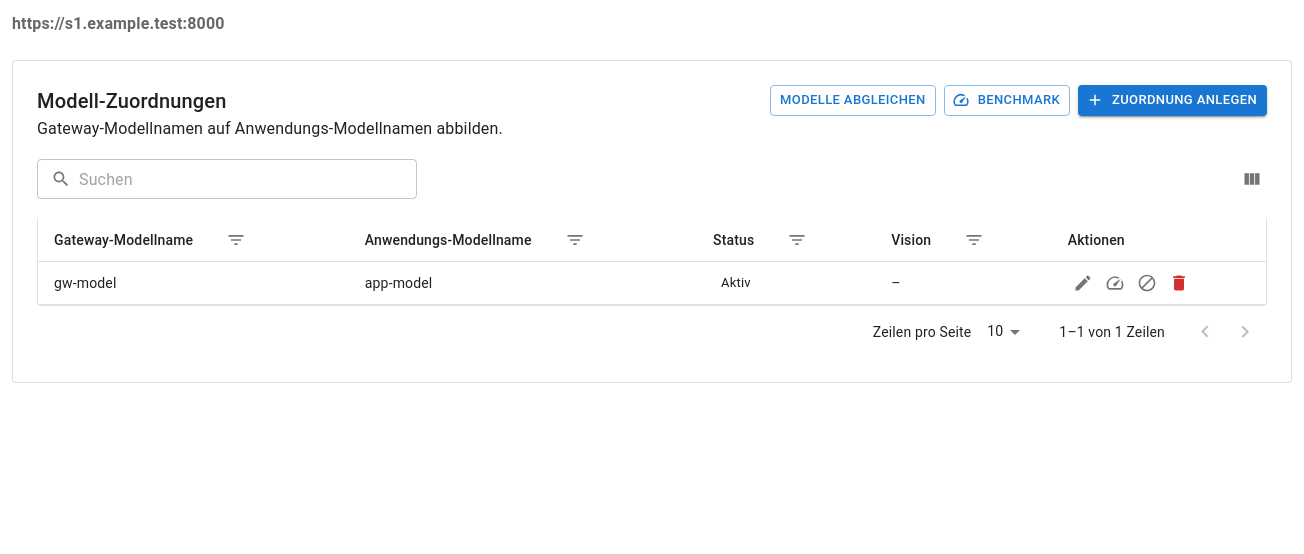
Test: opens the benchmark area scoped to the application from the panel action (no immediate run)
Expected: the text "gw-model" is shown, [38, 262, 349, 304]
Click the button "Benchmark". click: {"x": 1007, "y": 100}
box: [944, 85, 1070, 116]
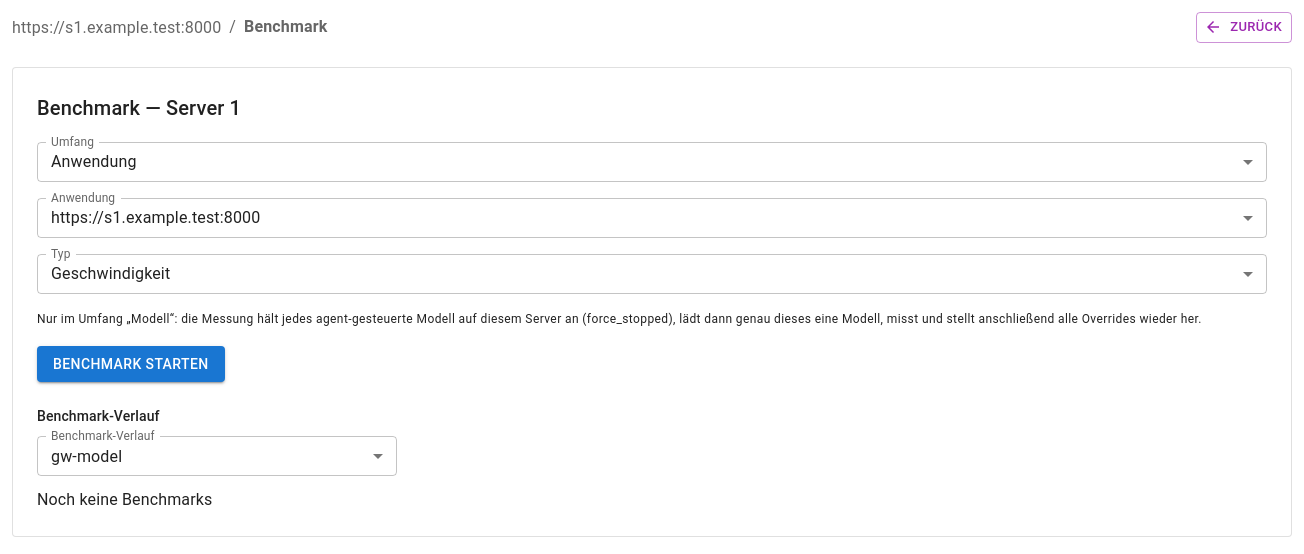
Expected: the heading "Benchmark — Server 1" is shown, [37, 92, 241, 124]
